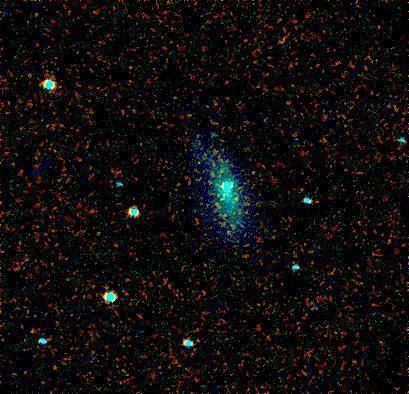star: (241, 155, 271, 185)
